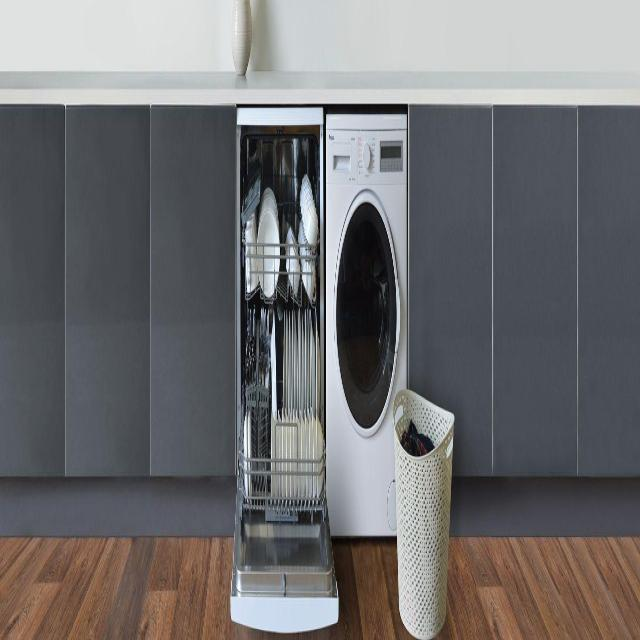dishwasher: (236, 101, 330, 640)
